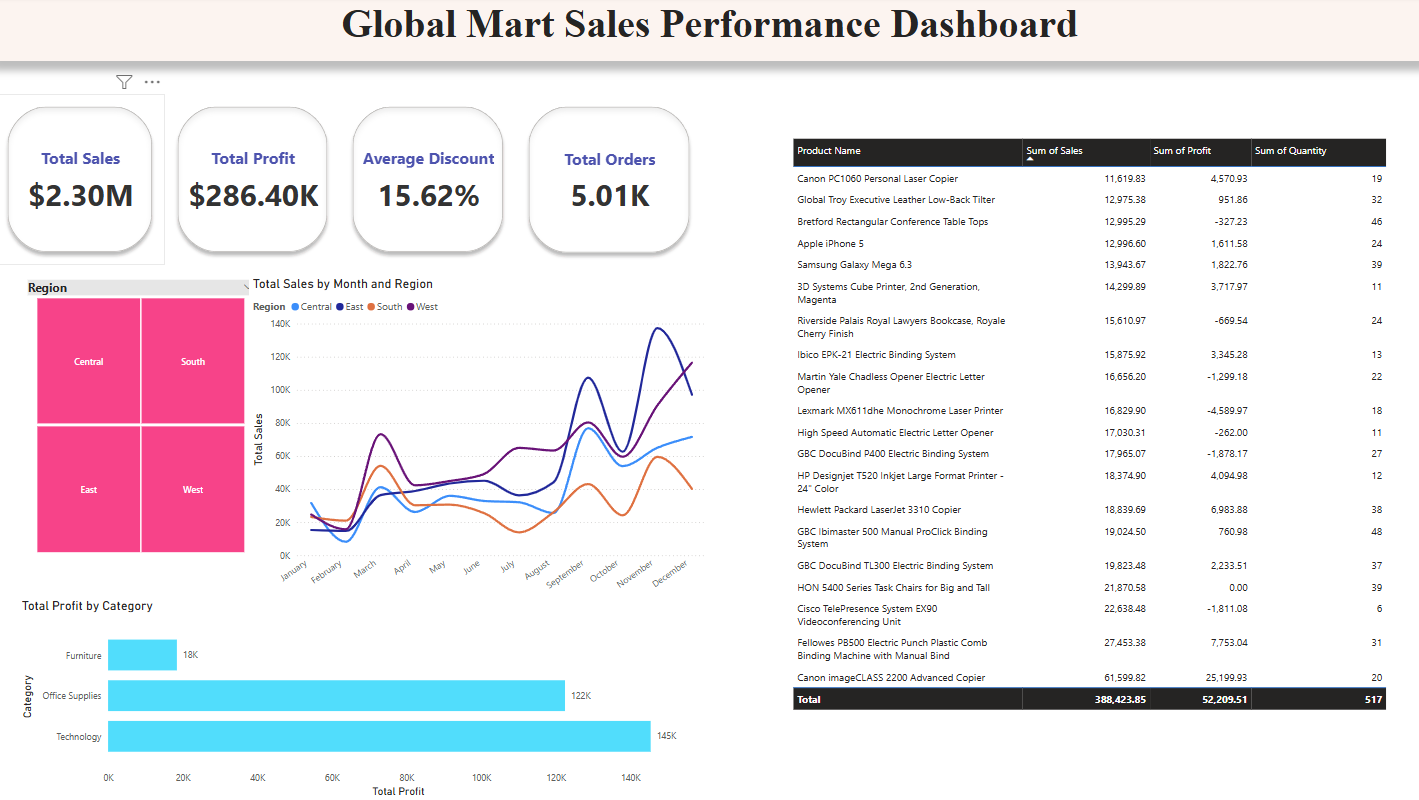

This screenshot's page, from the dashboard's own definition file:
{"tool":"powerbi","page":{"name":"Page 1","canvas":[1920,1080],"ordinal":0},"visuals":[{"type":"cardVisual","fields":{"Data":["Sum(Sample - Superstore.Sales)"]},"box":[0,130.3,228.6,229.5],"z":0},{"type":"cardVisual","fields":{"Data":["Sum(Sample - Superstore.Profit)"]},"box":[228.6,130.3,235.4,229.5],"z":1000},{"type":"cardVisual","fields":{"Data":["Avg(Sample - Superstore.Discount)"]},"box":[464,129.8,236.4,229.1],"z":2000},{"type":"cardVisual","fields":{"Data":["Count(Sample - Superstore.Order ID)"]},"box":[700.3,129.8,250.9,230.5],"z":3000},{"type":"slicer","fields":{"Values":["Sample - Superstore.Region"]},"box":[30.6,375,328.3,377.9],"z":4000},{"type":"lineChart","fields":{"Y":["Sum(Sample - Superstore.Sales)"],"Category":["Sample - Superstore.Order Date.Variation.Date Hierarchy.Month"],"Series":["Sample - Superstore.Region"]},"box":[341.4,375,618.6,456.7],"z":5000},{"type":"clusteredBarChart","fields":{"Category":["Sample - Superstore.Category"],"Y":["Sum(Sample - Superstore.Profit)"]},"box":[30.9,807.3,920.1,272.7],"z":6000},{"type":"textbox","box":[0,0,1920,86.1],"z":7000},{"type":"tableEx","fields":{"Values":["Sample - Superstore.Product Name","Sum(Sample - Superstore.Sales)","Sum(Sample - Superstore.Profit)","Sum(Sample - Superstore.Quantity)"]},"box":[1066.6,185.4,811.3,835.5],"z":8000}]}

Visuals, with their boxes in screenshot pixels (x1, y1, x2, y2), scaled from the page's 1920x1080 canvas onto the 1419x800 screenshot:
cardVisual - Sum(Sample - Superstore.Sales): detection(0, 97, 169, 267)
cardVisual - Sum(Sample - Superstore.Profit): detection(169, 97, 343, 267)
cardVisual - Avg(Sample - Superstore.Discount): detection(343, 96, 518, 266)
cardVisual - Count(Sample - Superstore.Order ID): detection(518, 96, 703, 267)
slicer - Sample - Superstore.Region: detection(23, 278, 265, 558)
lineChart - Sum(Sample - Superstore.Sales) x Sample - Superstore.Order Date.Variation.Date Hierarchy.Month: detection(252, 278, 710, 616)
clusteredBarChart - Sample - Superstore.Category x Sum(Sample - Superstore.Profit): detection(23, 598, 703, 799)
textbox: detection(0, 0, 1418, 64)
tableEx - Sample - Superstore.Product Name x Sum(Sample - Superstore.Sales): detection(788, 137, 1388, 756)
